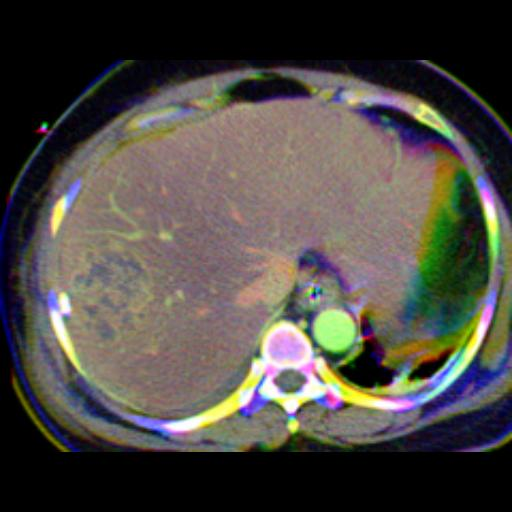Abscess: (71, 250, 147, 340)
